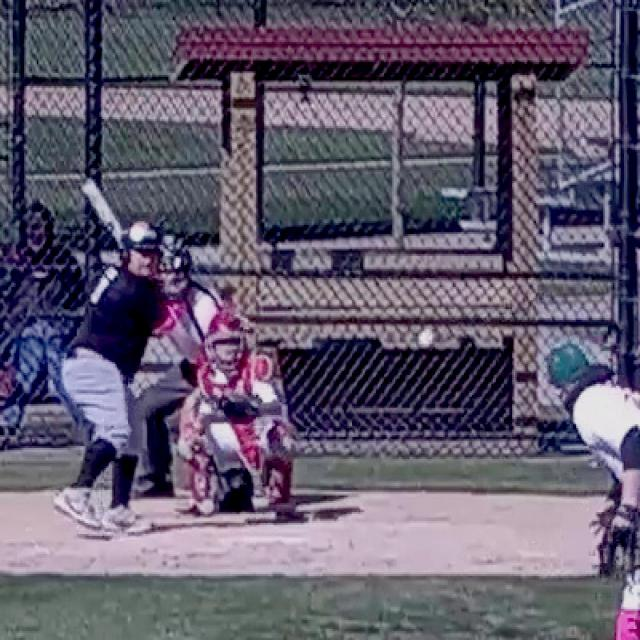baseball: (418, 331, 434, 347)
